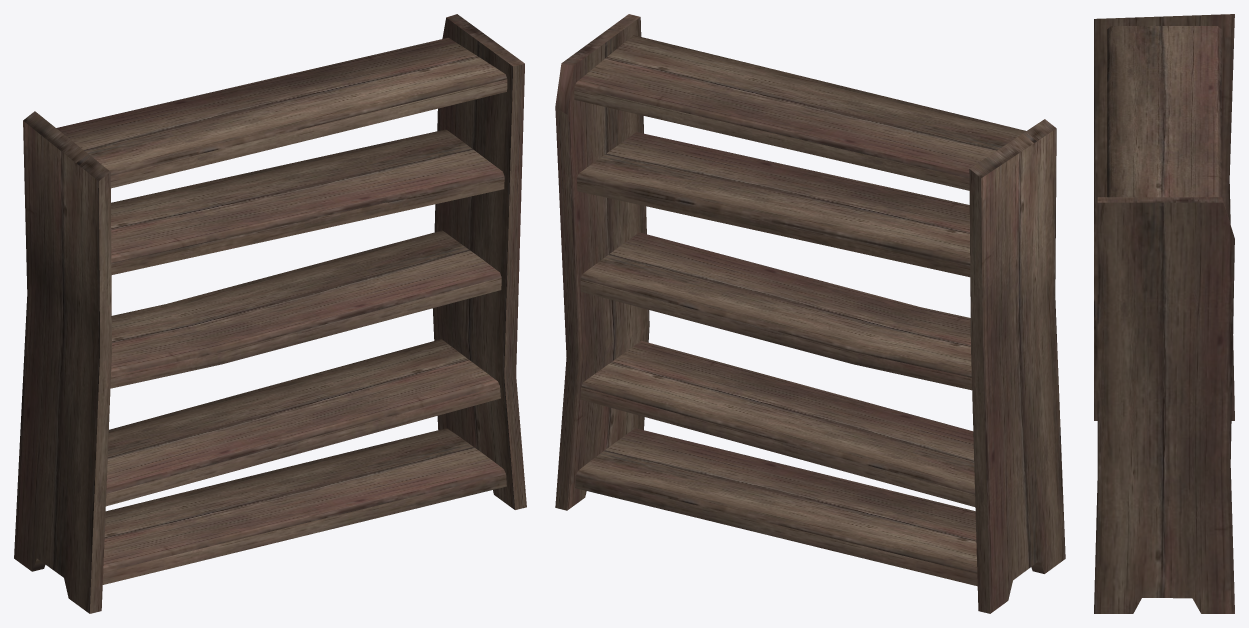
The model's file is bookshelf_shanty.fbx.
3 renders of one model, left to right at view 1: azimuth 30°, elevation 25°; view 2: azimuth 150°, elevation 25°; view 3: azimuth 270°, elevation 25°, orthographic. The views are drawn at different scales.
Visible parts, largest first — view 1: support_2, shelf_2, shelf_4, shelf_1, shelf_5, shelf_3, support_1; view 2: support_2, shelf_4, shelf_1, shelf_2, shelf_5, shelf_3, support_1; view 3: support_1, shelf_4, support_2.
Part boxes in pixels (x1,y1,x2,y2): support_2: (14,111,111,613); shelf_2: (106,339,500,506); shelf_4: (56,37,507,188); shelf_1: (102,428,506,584); shelf_5: (110,230,501,388); shelf_3: (111,129,504,274); support_1: (432,14,526,509); support_2: (969,119,1065,613); shelf_4: (574,35,1025,190); shelf_1: (575,428,977,586); shelf_2: (580,340,975,506); shelf_5: (580,232,971,390); shelf_3: (577,132,970,277); support_1: (555,14,649,510); support_1: (1094,197,1234,613); shelf_4: (1107,26,1221,197); support_2: (1094,14,1234,420).
Size of the model in its own units: 826 by 798 by 248.
1 material, 1 textured.
